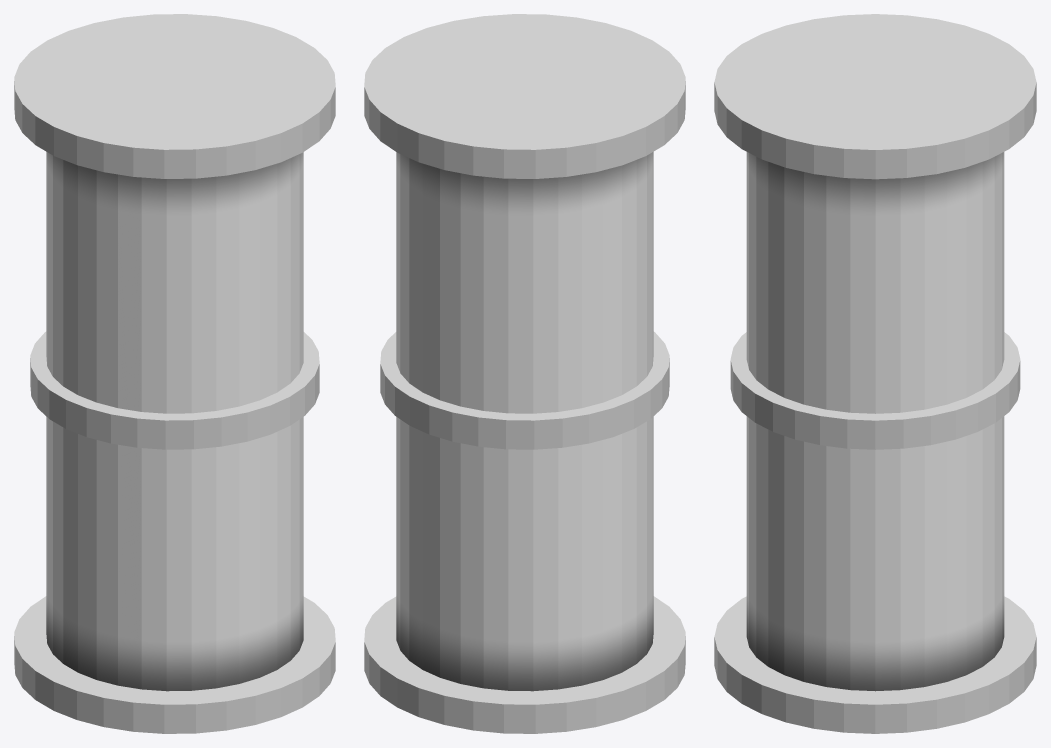
3 renders of one model, left to right at view 1: azimuth 30°, elevation 25°; view 2: azimuth 150°, elevation 25°; view 3: azimuth 270°, elevation 25°, orthographic.
Visible parts, largest first — view 1: Capsule_1-2, Capsule_1-2_Ring; view 2: Capsule_1-2, Capsule_1-2_Ring; view 3: Capsule_1-2, Capsule_1-2_Ring.
Part boxes in pixels (x1,y1,x2,y2): Capsule_1-2: (14, 14, 335, 733); Capsule_1-2_Ring: (30, 331, 319, 449); Capsule_1-2: (364, 14, 685, 733); Capsule_1-2_Ring: (380, 331, 669, 449); Capsule_1-2: (714, 14, 1036, 733); Capsule_1-2_Ring: (730, 332, 1020, 449).
Bounding box in the file's own units: 200 × 400 × 200.
3 materials, 1 textured.
